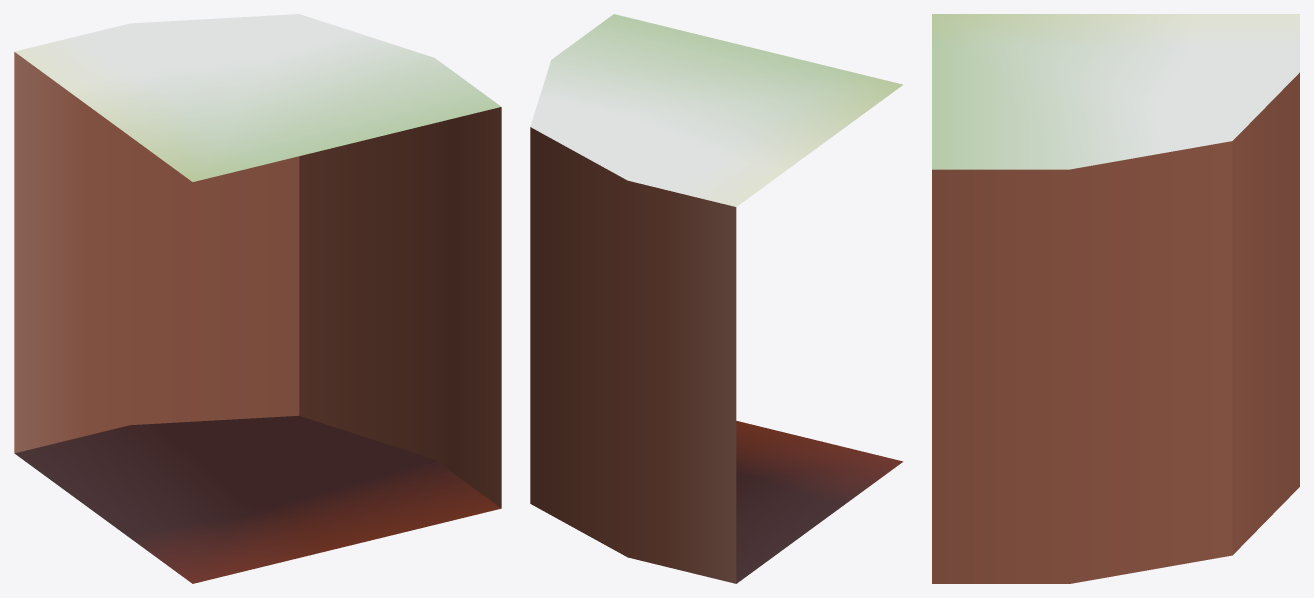
Rendered from SeaCorner.Convex.B.Snow.glb.
3 renders of one model, left to right at view 1: azimuth 30°, elevation 25°; view 2: azimuth 150°, elevation 25°; view 3: azimuth 270°, elevation 25°, orthographic. The views are drawn at different scales.
Visible parts, largest first — view 1: SeaCorner.Convex.B.Snow; view 2: SeaCorner.Convex.B.Snow; view 3: SeaCorner.Convex.B.Snow.
Part boxes in pixels (left/top/right/bottom): SeaCorner.Convex.B.Snow: left=14, top=14, right=501, bottom=583; SeaCorner.Convex.B.Snow: left=530, top=14, right=903, bottom=583; SeaCorner.Convex.B.Snow: left=932, top=14, right=1299, bottom=583.
Bounding box in the file's own units: 0.8 × 0.9943 × 0.8.
1 material, 1 textured.
